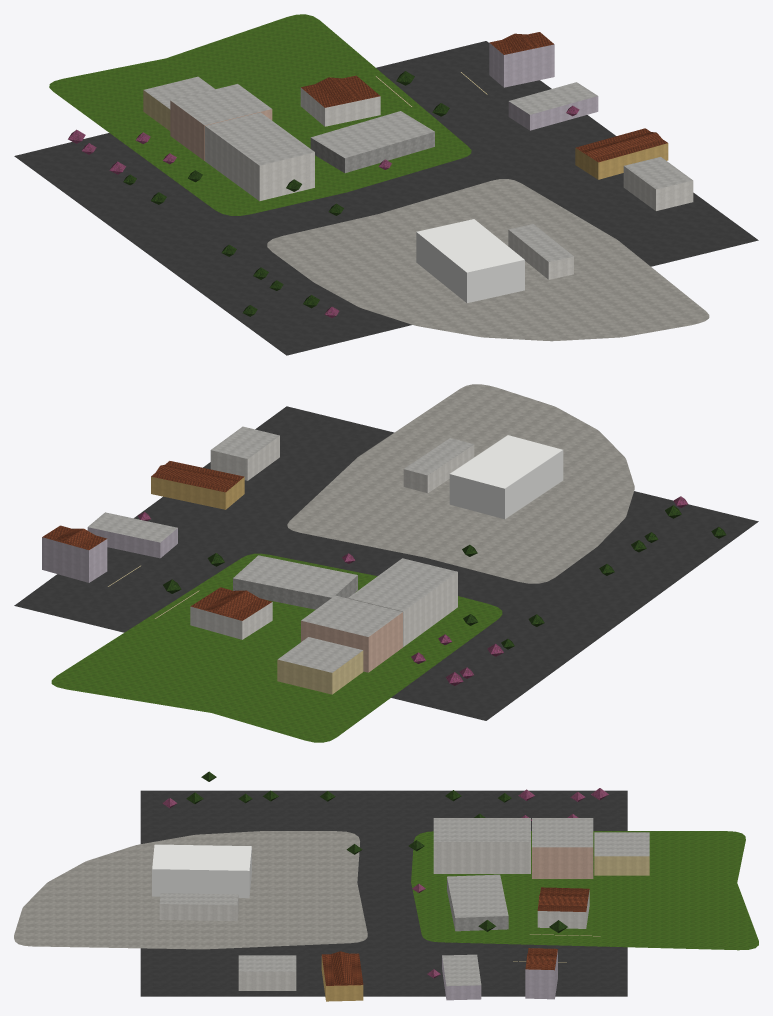
The model's file is cidade_S01_03_lod.gltf.
3 views of the same model, one above another, from view 1: azimuth 30°, elevation 25°; view 2: azimuth 150°, elevation 25°; view 3: azimuth 270°, elevation 25° (orthographic). The views are drawn at different scales.
Visible parts, largest first — view 1: S01_03_Chao_LOD2, S01_03_Edificios_LOD1, S01_03_Silhueta_LOD2, S01_03_Vegetacao_LOD2; view 2: S01_03_Chao_LOD2, S01_03_Edificios_LOD1, S01_03_Silhueta_LOD2, S01_03_Vegetacao_LOD2; view 3: S01_03_Chao_LOD2, S01_03_Edificios_LOD1, S01_03_Silhueta_LOD2, S01_03_Vegetacao_LOD2.
Boxes of the visible parts, x1,y1,x2,y2 form: S01_03_Chao_LOD2: [14, 14, 758, 355]; S01_03_Edificios_LOD1: [143, 33, 693, 302]; S01_03_Silhueta_LOD2: [300, 32, 668, 178]; S01_03_Vegetacao_LOD2: [68, 71, 579, 317]; S01_03_Chao_LOD2: [14, 384, 758, 742]; S01_03_Edificios_LOD1: [42, 426, 563, 694]; S01_03_Silhueta_LOD2: [42, 461, 272, 639]; S01_03_Vegetacao_LOD2: [138, 496, 726, 685]; S01_03_Chao_LOD2: [14, 790, 758, 996]; S01_03_Edificios_LOD1: [152, 818, 649, 1001]; S01_03_Silhueta_LOD2: [321, 887, 589, 1001]; S01_03_Vegetacao_LOD2: [162, 771, 608, 978].
Bounding box in the file's own units: 104 × 7.94 × 153.
Materials: 13 (12 with a texture image).
